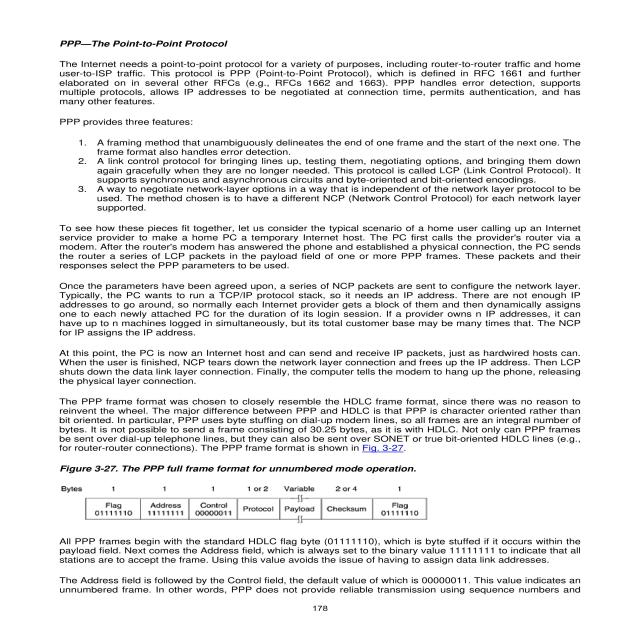diagram: (58, 460, 502, 530)
